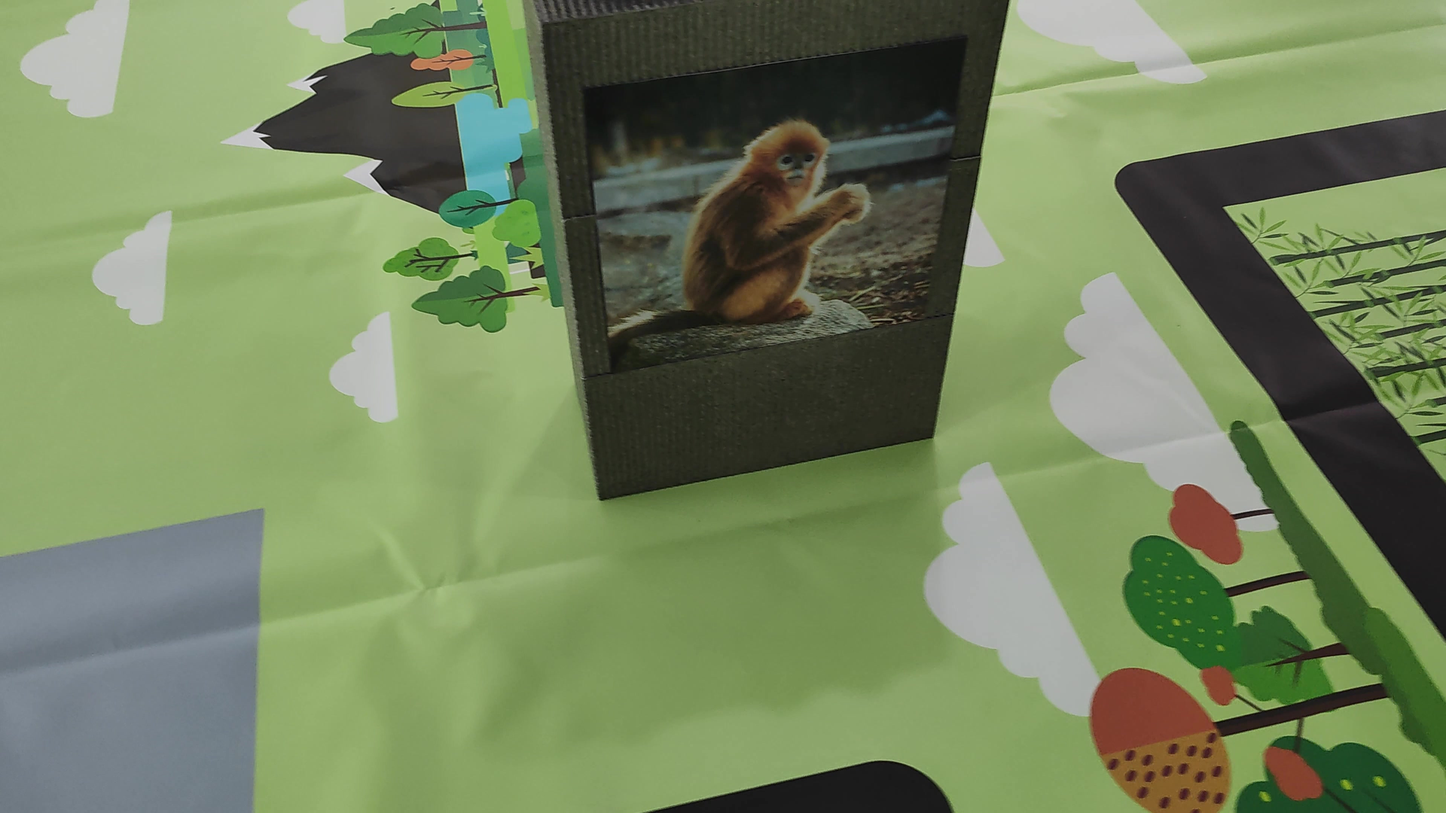monkey: (635, 69, 909, 342)
